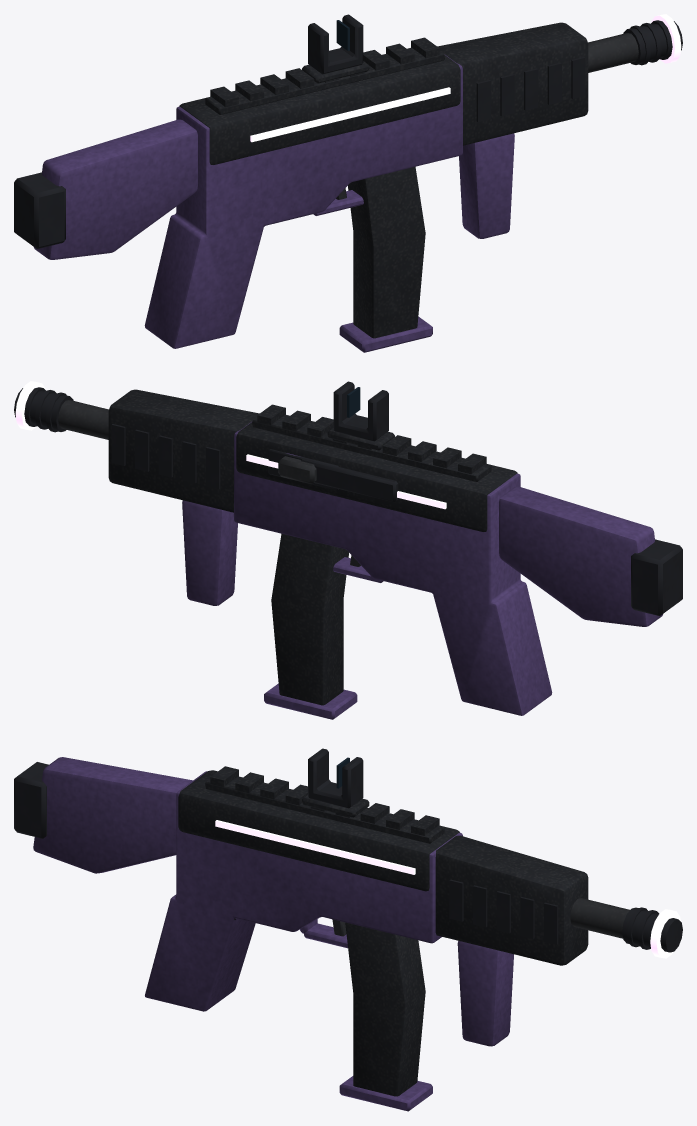
The model's file is smg_r3.fbx.
3 views of the same model, one above another, from view 1: azimuth 30°, elevation 25°; view 2: azimuth 150°, elevation 25°; view 3: azimuth 330°, elevation 25° (orthographic).
Parts seen in each view (by area): view 1: Body, Magazine, Glow; view 2: Body, Magazine, Bolt, Glow; view 3: Body, Magazine, Glow.
Boxes of the visible parts, x1,y1,x2,y2 form: Body: (14,14,682,348); Magazine: (339,166,432,352); Glow: (250,14,681,142); Body: (14,381,682,715); Magazine: (264,533,357,719); Bolt: (268,449,398,502); Glow: (15,381,446,509); Body: (14,748,682,1046); Magazine: (339,922,432,1111); Glow: (215,820,680,958).
Bounding box in the file's own units: 6.05 × 2.89 × 0.6725.
Materials: 2 (1 with a texture image).
